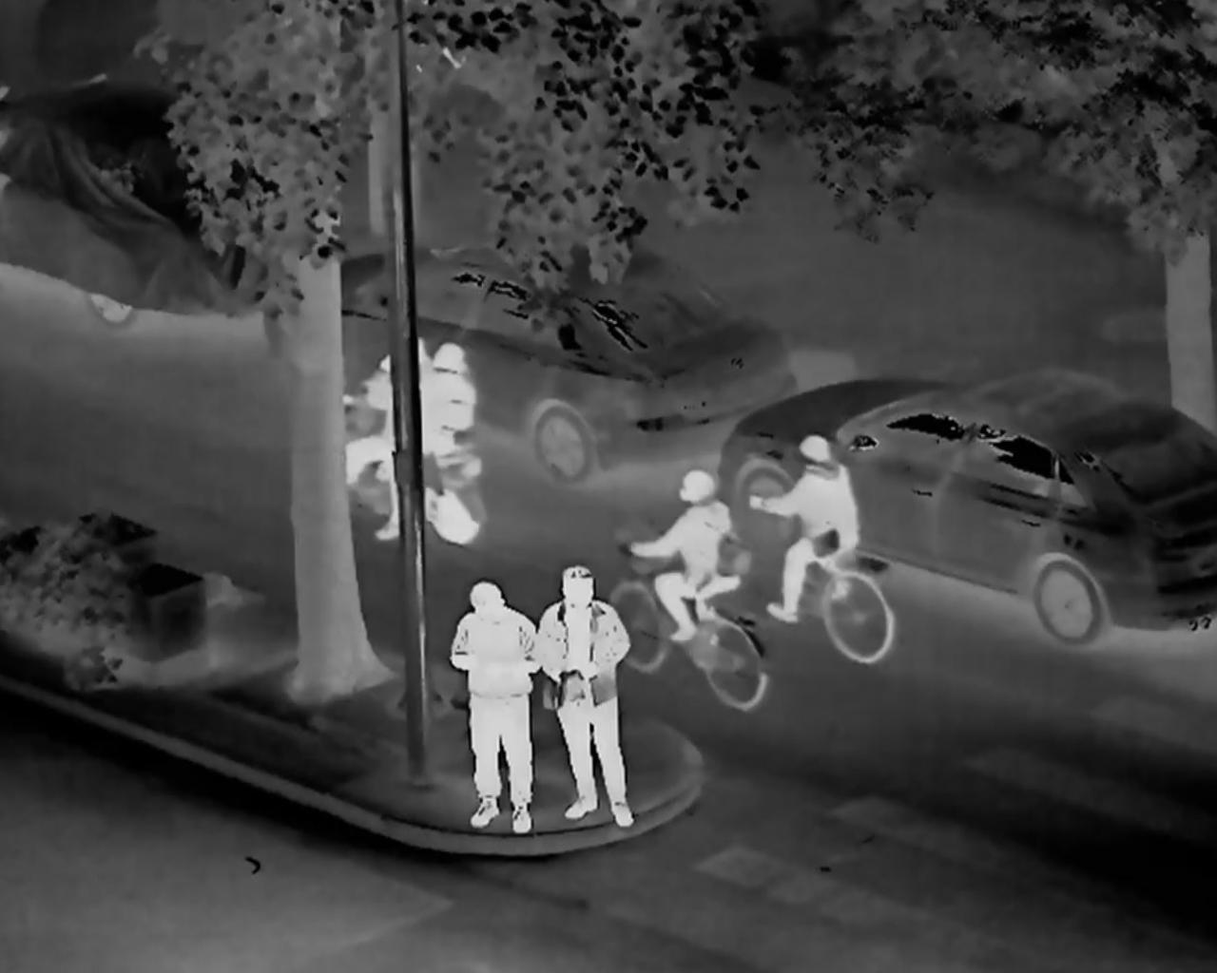person: (524, 556, 652, 830), (436, 566, 547, 848), (625, 469, 746, 663), (749, 429, 864, 625), (357, 339, 442, 528), (414, 338, 484, 507)
